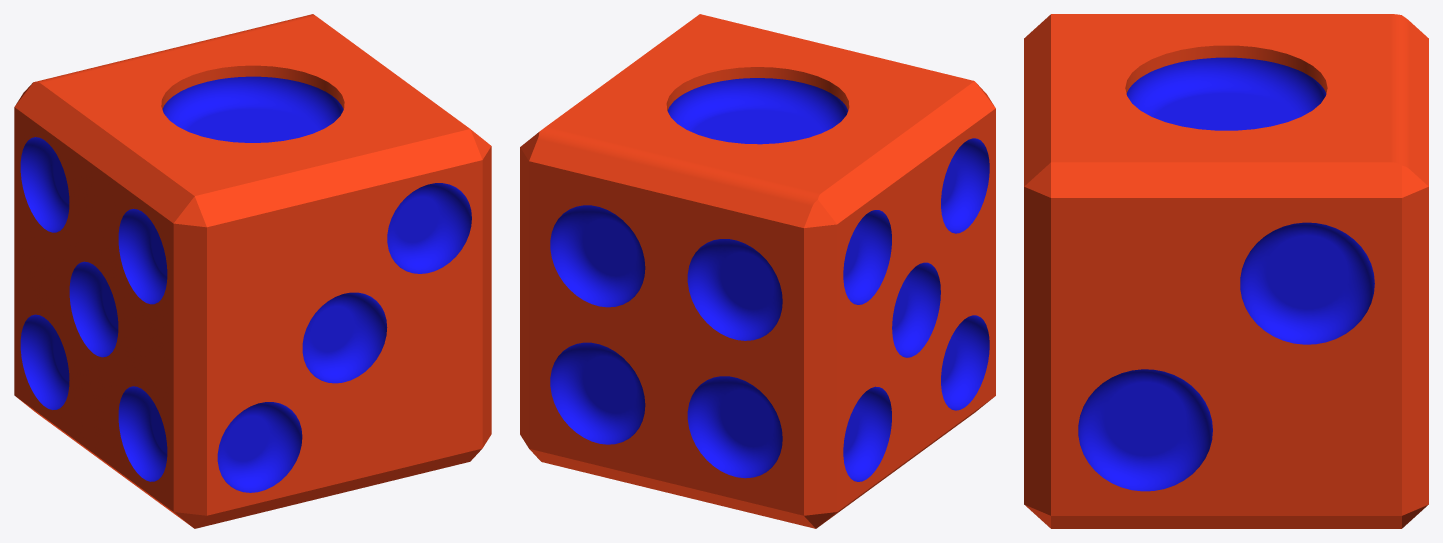
File: saikoro.glb
The picture shows the model from 3 angles, left to right: view 1: azimuth 30°, elevation 25°; view 2: azimuth 150°, elevation 25°; view 3: azimuth 270°, elevation 25°; orthographic projection. The views are drawn at different scales.
Parts seen in each view (by area): view 1: caddddds; view 2: caddddds; view 3: caddddds.
Part boxes in pixels (<box>): caddddds: <box>14,14,491,528</box>; caddddds: <box>520,14,995,528</box>; caddddds: <box>1024,14,1428,528</box>.
Size of the model in its own units: 0.03 by 0.03 by 0.03.
